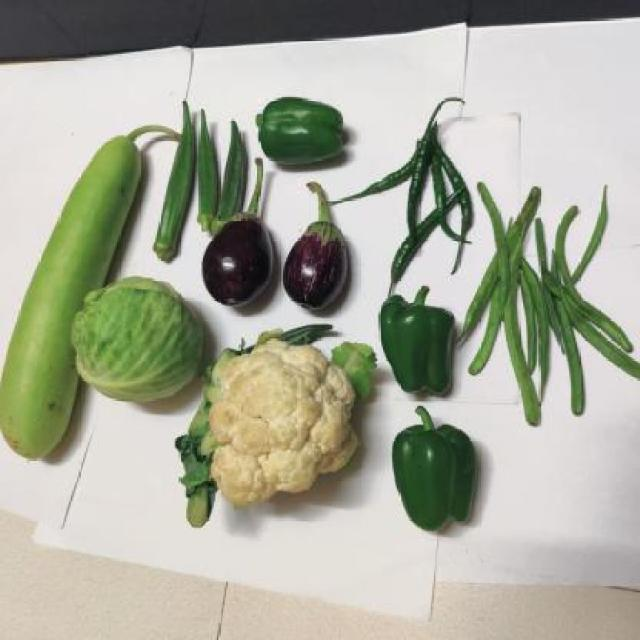Brinjal: (283, 181, 349, 317), (203, 209, 282, 308)
Cabbage: (70, 277, 210, 403)
Calabash: (36, 120, 150, 320)
Capsicum: (396, 412, 478, 536), (380, 284, 457, 396), (256, 94, 346, 164)
Cauliflower: (186, 334, 374, 522)
Green Chili: (378, 112, 471, 276)
Lady finger: (156, 105, 250, 222)
